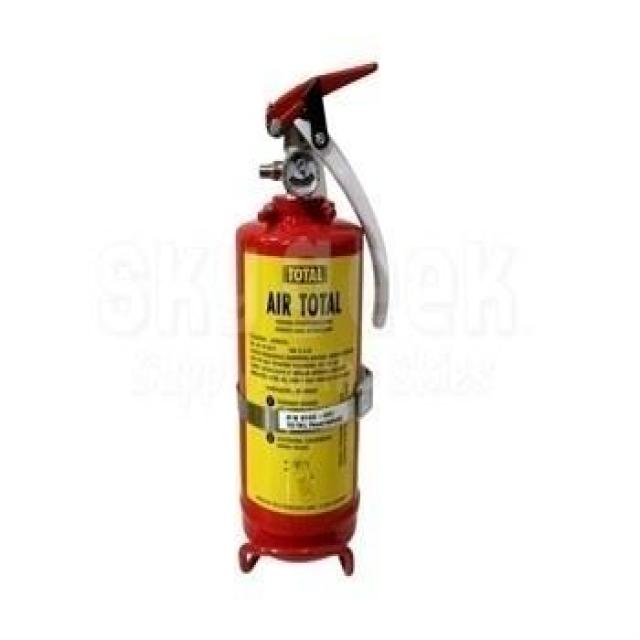fire_extinguisher: (229, 56, 391, 573)
